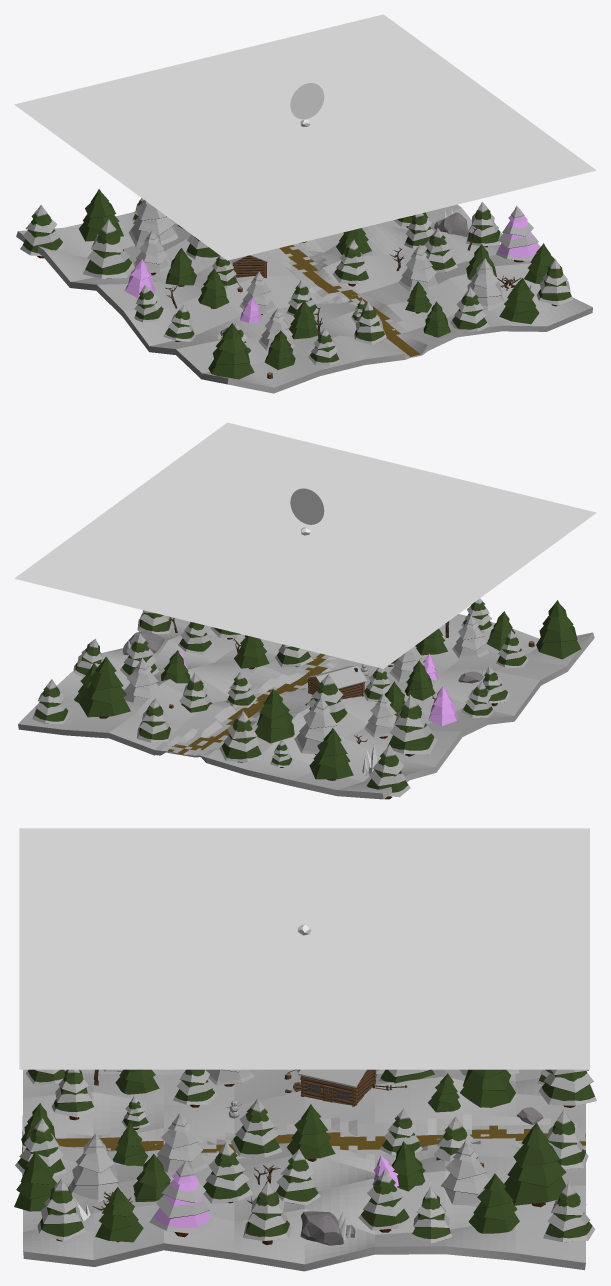
The model's file is forest.fbx.
3 views of the same model, one above another, from view 1: azimuth 30°, elevation 25°; view 2: azimuth 150°, elevation 25°; view 3: azimuth 270°, elevation 25° (orthographic). The views are drawn at different scales.
Visible parts, largest first — view 1: Plane.001, Plane, Fir_Tree_01.014, Fir_Tree_01.012, Fir_Tree_01.002, Fir_Tree_01.028, Fir_Tree_01.034, Fir_Tree_01.010, Fir_Tree_01.008, Fir_Tree_01.037, Fir_Tree_01.018, Circle (+16 smaller); view 2: Plane.001, Plane, Fir_Tree_01.012, Fir_Tree_01.013, Fir_Tree_01.002, Fir_Tree_01.045, Fir_Tree_01.028, Fir_Tree_01.034, Cabin, Fir_Tree_01.017, Circle, Fir_Tree_01.026 (+12 smaller); view 3: Plane.001, Plane, Fir_Tree_01.014, Fir_Tree_01.013, Fir_Tree_01.012, Fir_Tree_01.045, Fir_Tree_01.010, Fir_Tree_01.002, Cabin, Fir_Tree_01.018, Fir_Tree_01.037, Fir_Tree_01.008 (+11 smaller).
Part boxes in pixels (box(x1,y1,x2,y2)): Plane.001: box(14, 14, 596, 260); Plane: box(16, 204, 592, 393); Fir_Tree_01.014: box(424, 228, 573, 332); Fir_Tree_01.012: box(20, 189, 219, 260); Fir_Tree_01.002: box(234, 280, 340, 369); Fir_Tree_01.028: box(83, 219, 134, 279); Fir_Tree_01.034: box(208, 323, 254, 379); Fir_Tree_01.010: box(496, 205, 540, 262); Fir_Tree_01.008: box(398, 245, 437, 291); Fir_Tree_01.037: box(332, 239, 369, 286); Fir_Tree_01.018: box(466, 202, 501, 247); Circle: box(290, 83, 324, 119); Plane.001: box(14, 422, 596, 668); Plane: box(18, 614, 594, 799); Fir_Tree_01.012: box(219, 674, 410, 799); Fir_Tree_01.013: box(32, 633, 212, 723); Fir_Tree_01.002: box(388, 598, 528, 667); Fir_Tree_01.045: box(78, 656, 130, 718); Fir_Tree_01.028: box(386, 694, 436, 756); Fir_Tree_01.034: box(536, 600, 580, 659); Cabin: box(306, 665, 367, 699); Fir_Tree_01.017: box(137, 698, 172, 742); Circle: box(290, 488, 324, 524); Fir_Tree_01.026: box(364, 693, 396, 738); Plane.001: box(19, 828, 589, 1069); Plane: box(22, 1069, 586, 1271); Fir_Tree_01.014: box(14, 1118, 252, 1241); Fir_Tree_01.013: box(358, 1116, 595, 1242); Fir_Tree_01.012: box(378, 1069, 596, 1107); Fir_Tree_01.045: box(504, 1122, 566, 1207); Fir_Tree_01.010: box(149, 1160, 214, 1237); Fir_Tree_01.002: box(25, 1069, 217, 1107); Cabin: box(298, 1069, 379, 1106); Fir_Tree_01.018: box(243, 1181, 292, 1244); Fir_Tree_01.037: box(231, 1098, 282, 1157); Fir_Tree_01.008: box(157, 1112, 207, 1174).
Bounding box in the file's own units: 2217 × 1172 × 2224.
